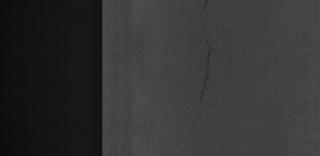water spot: (192, 3, 222, 110)
